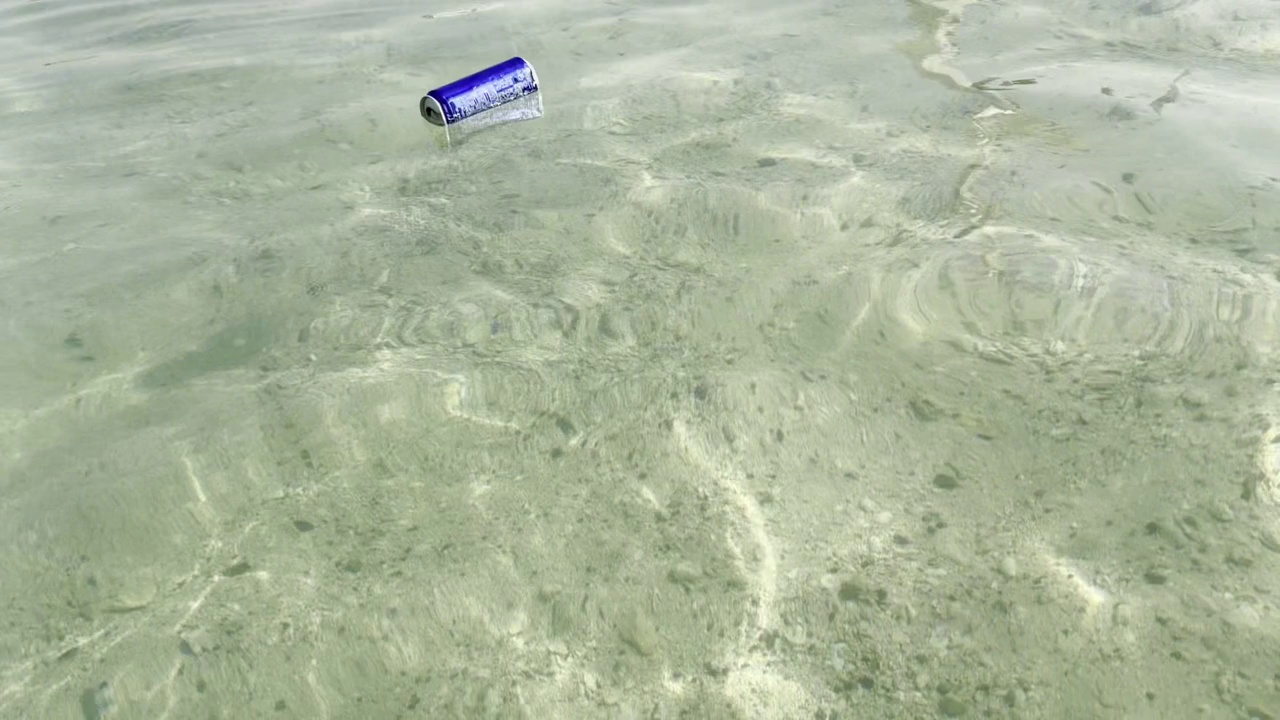debris: (412, 45, 546, 137)
